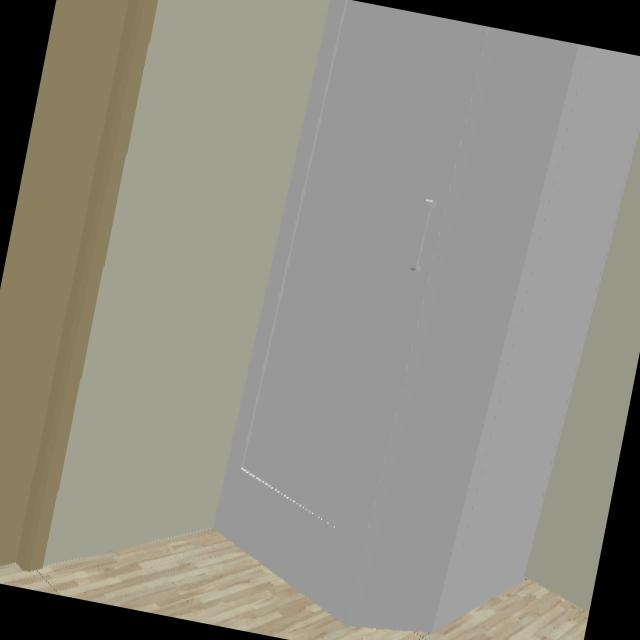shower: (212, 0, 640, 636)
